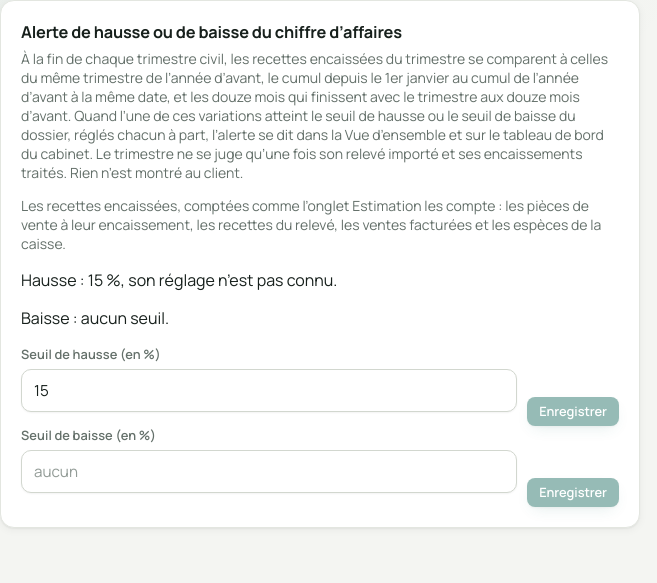
Scenario: la carte des seuils › un refus de la base se dit, et la valeur relue reste
The width and height of the screenshot is (657, 583).
Replace the text in the field showing "15" with "30" at coordinates (269, 390), box [21,369,517,412]
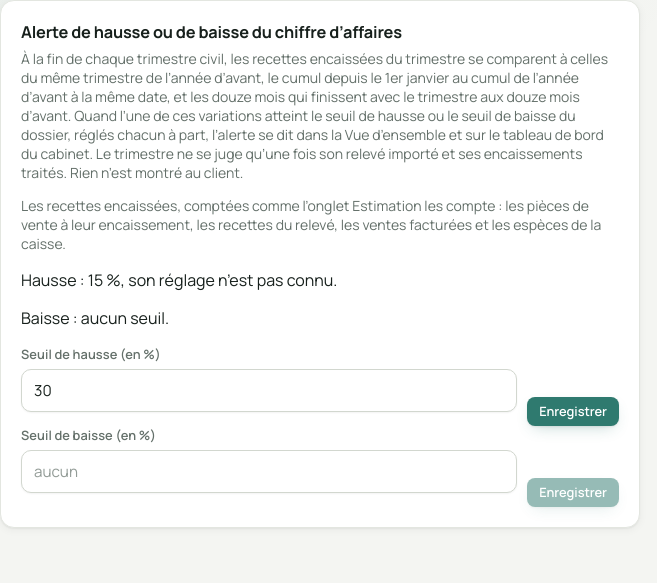
Click the 1st button "Enregistrer" at coordinates (573, 411), box [527,397,619,426]
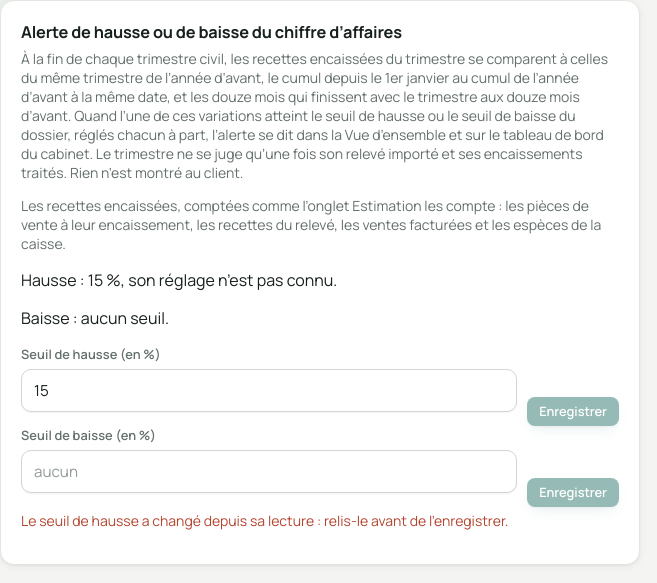
Result: the text "Le seuil de hausse a changé depuis sa lecture : relis-le avant de l'enregistrer." is shown at [21,511,508,530]
Result: the field labelled "Seuil de hausse (en %)" holds "15" at [21,369,517,412]
